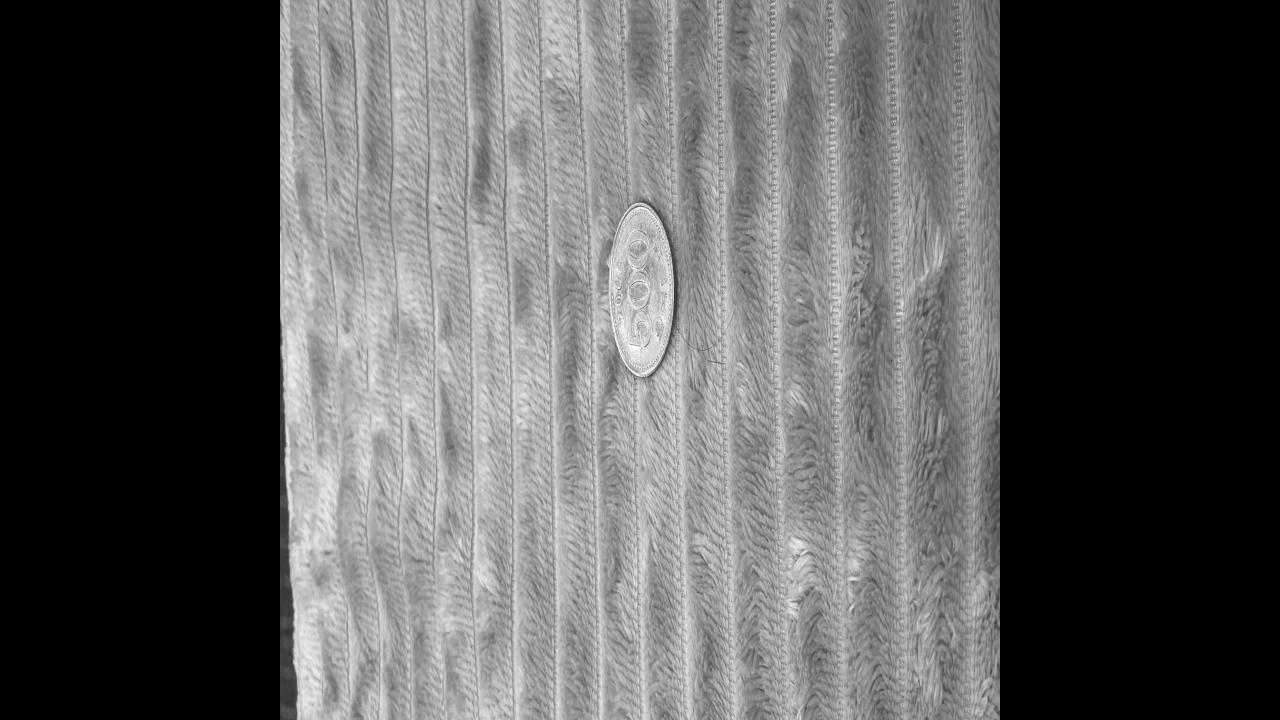coin: (609, 200, 675, 376)
